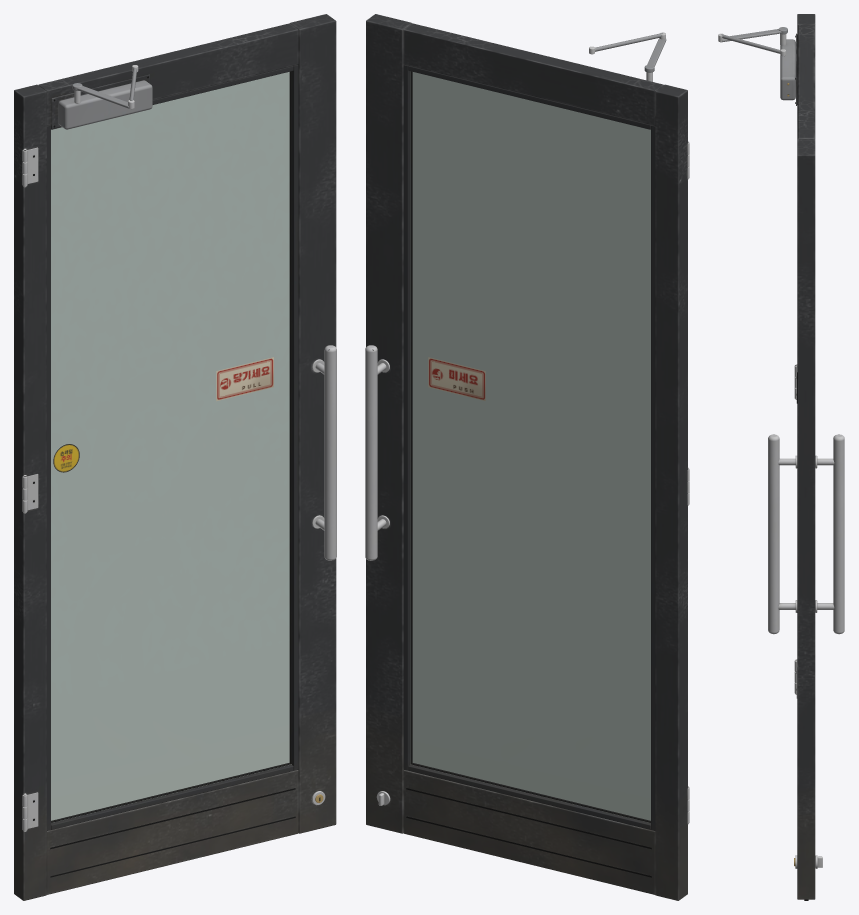
File: StoreGlassDoor.fbx
3 renders of one model, left to right at view 1: azimuth 30°, elevation 25°; view 2: azimuth 150°, elevation 25°; view 3: azimuth 270°, elevation 25°, orthographic. The views are drawn at different scales.
Visible parts, largest first — view 1: StoreGlassDoor_Leaf, StoreGlassDoor_PullSticker; view 2: StoreGlassDoor_Leaf; view 3: StoreGlassDoor_Leaf, StoreGlassDoor_Closer, StoreGlassDoor_CloserFore.
Boxes of the visible parts, x1,y1,x2,y2 form: StoreGlassDoor_Leaf: (14,14,336,900); StoreGlassDoor_PullSticker: (216,357,273,401); StoreGlassDoor_Leaf: (365,14,689,900); StoreGlassDoor_Leaf: (768,14,844,900); StoreGlassDoor_Closer: (718,27,787,42); StoreGlassDoor_CloserFore: (721,34,785,56).
Size of the model in its own units: 0.9265 by 2.31 by 0.3495.
